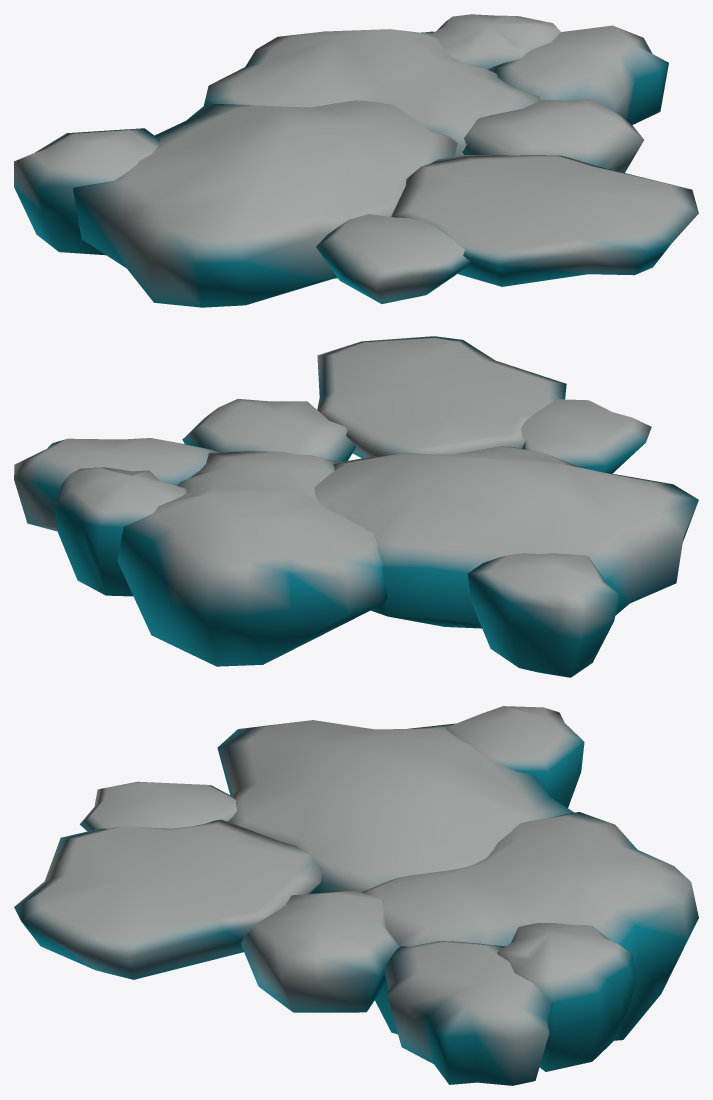
The picture shows the model from 3 angles, top to bottom: view 1: azimuth 30°, elevation 25°; view 2: azimuth 150°, elevation 25°; view 3: azimuth 270°, elevation 25°; orthographic projection. The views are drawn at different scales.
Visible parts, largest first — view 1: G:\FFXIV-MapTools\exports\y6t1\bg\ex5\02_ykt_y6\twn\y6t1\bgp; view 2: G:\FFXIV-MapTools\exports\y6t1\bg\ex5\02_ykt_y6\twn\y6t1\bgp; view 3: G:\FFXIV-MapTools\exports\y6t1\bg\ex5\02_ykt_y6\twn\y6t1\bgp.
Part boxes in pixels (bbox=[...]): G:\FFXIV-MapTools\exports\y6t1\bg\ex5\02_ykt_y6\twn\y6t1\bgp: bbox=[14, 14, 698, 307]; G:\FFXIV-MapTools\exports\y6t1\bg\ex5\02_ykt_y6\twn\y6t1\bgp: bbox=[14, 336, 698, 677]; G:\FFXIV-MapTools\exports\y6t1\bg\ex5\02_ykt_y6\twn\y6t1\bgp: bbox=[14, 706, 698, 1085].
Size of the model in its own units: 27.7 by 7.07 by 24.97.
